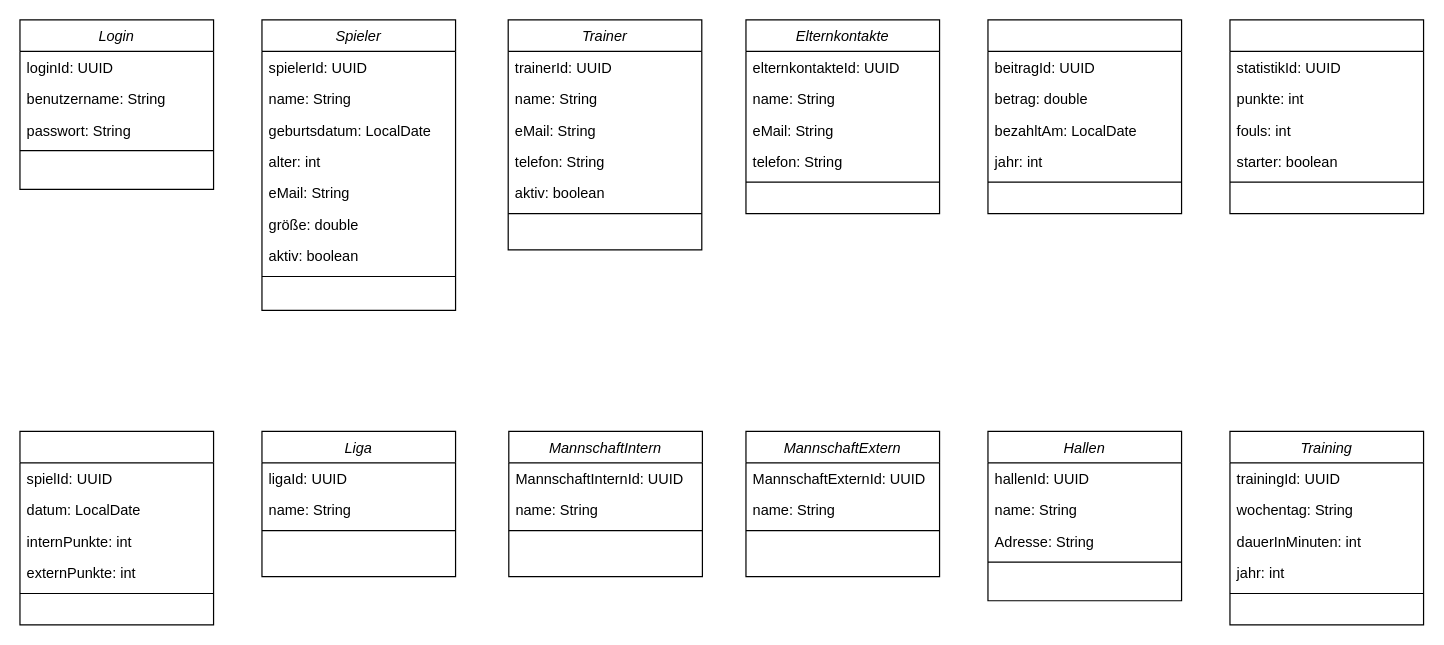
This 1444x645 diagram has some shape labels left out. The box of each missing label's shape, as (x1, y1, x2, y2) in pixels:
Mitgliedsbeitrag: (987, 19, 1182, 214)
Spiele: (19, 430, 214, 625)
Spielerstatistik: (1229, 19, 1424, 214)
